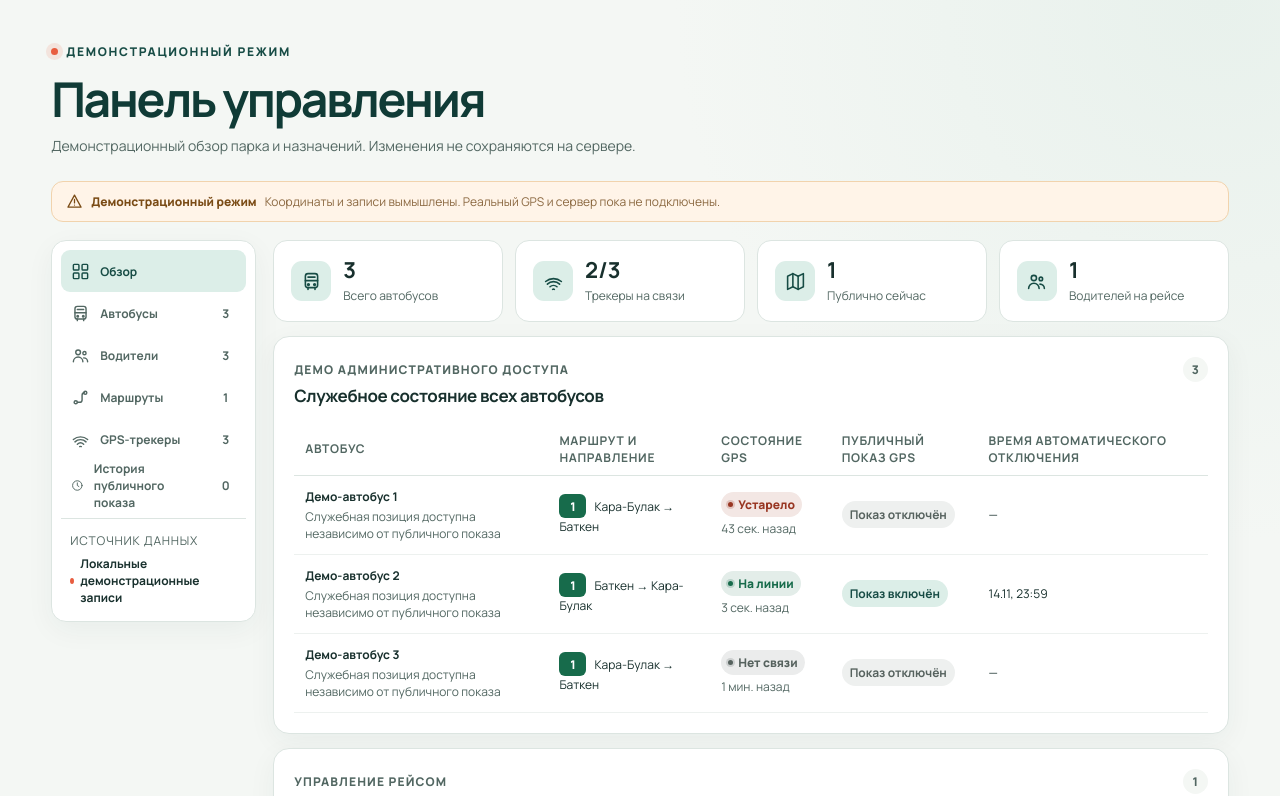
it: Admin demo panel › stores an edited tracker model as typed text
The image size is (1280, 796).
Click the button "GPS-трекеры 3": coordinates (154, 440) [61,418,246,460]
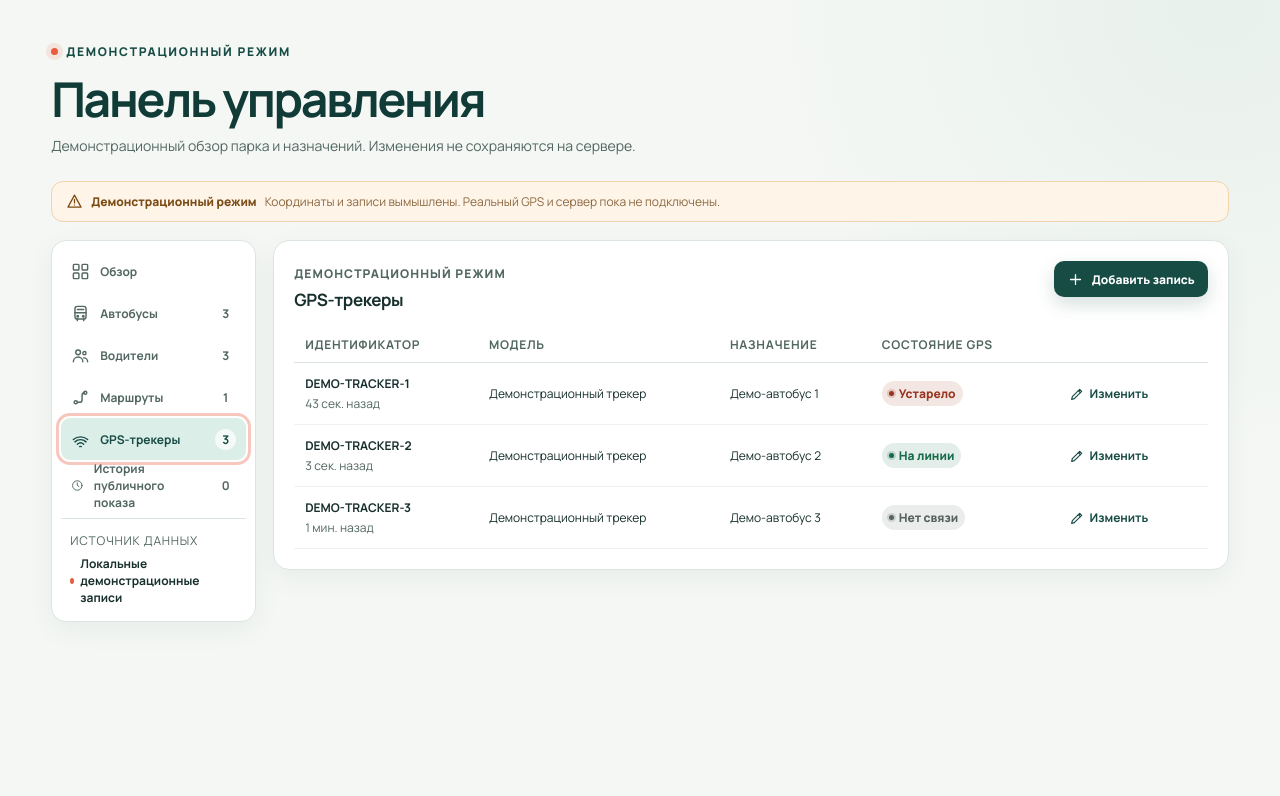
Click the button "Изменить" in the row of "DEMO-TRACKER-2": coordinates (1108, 456) [1061,438,1156,474]
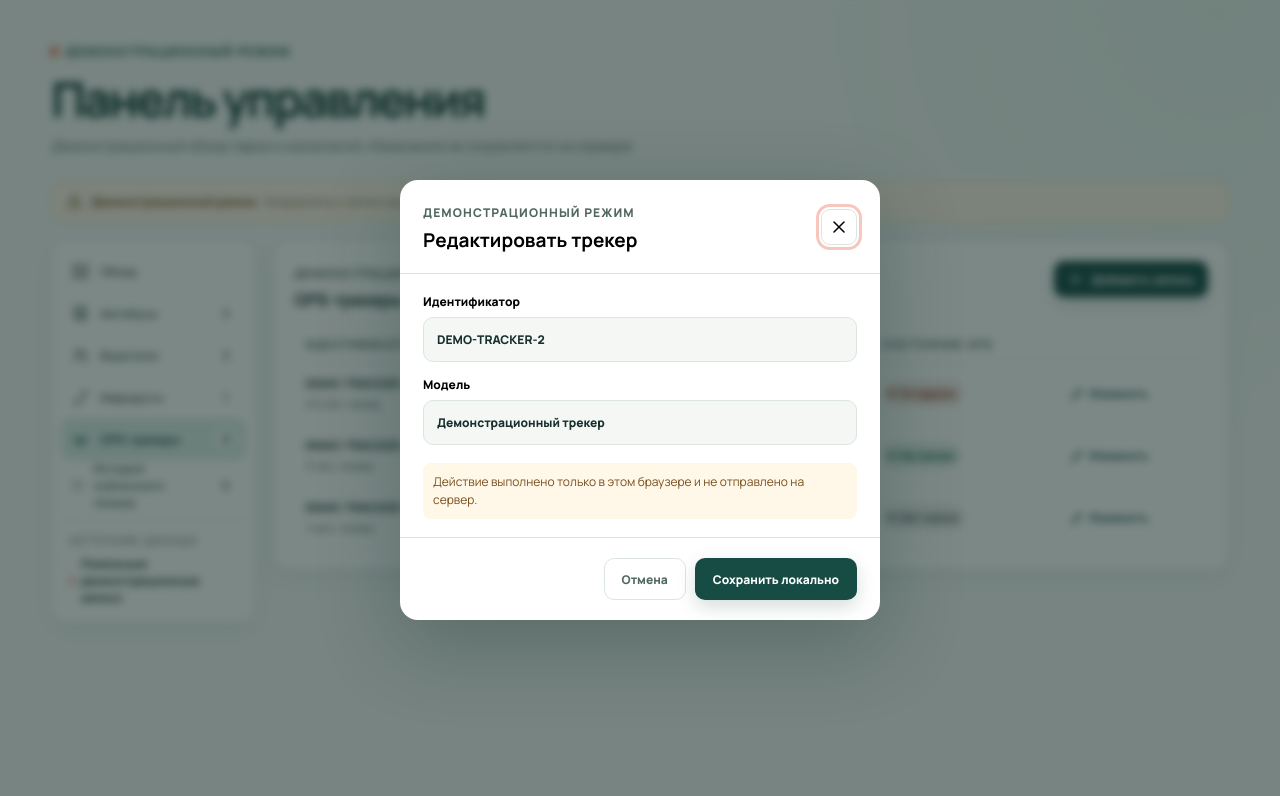
Replace the text in the field labelled "Модель" with "Демо-модель Б": coordinates (640, 422) [423,400,857,445]
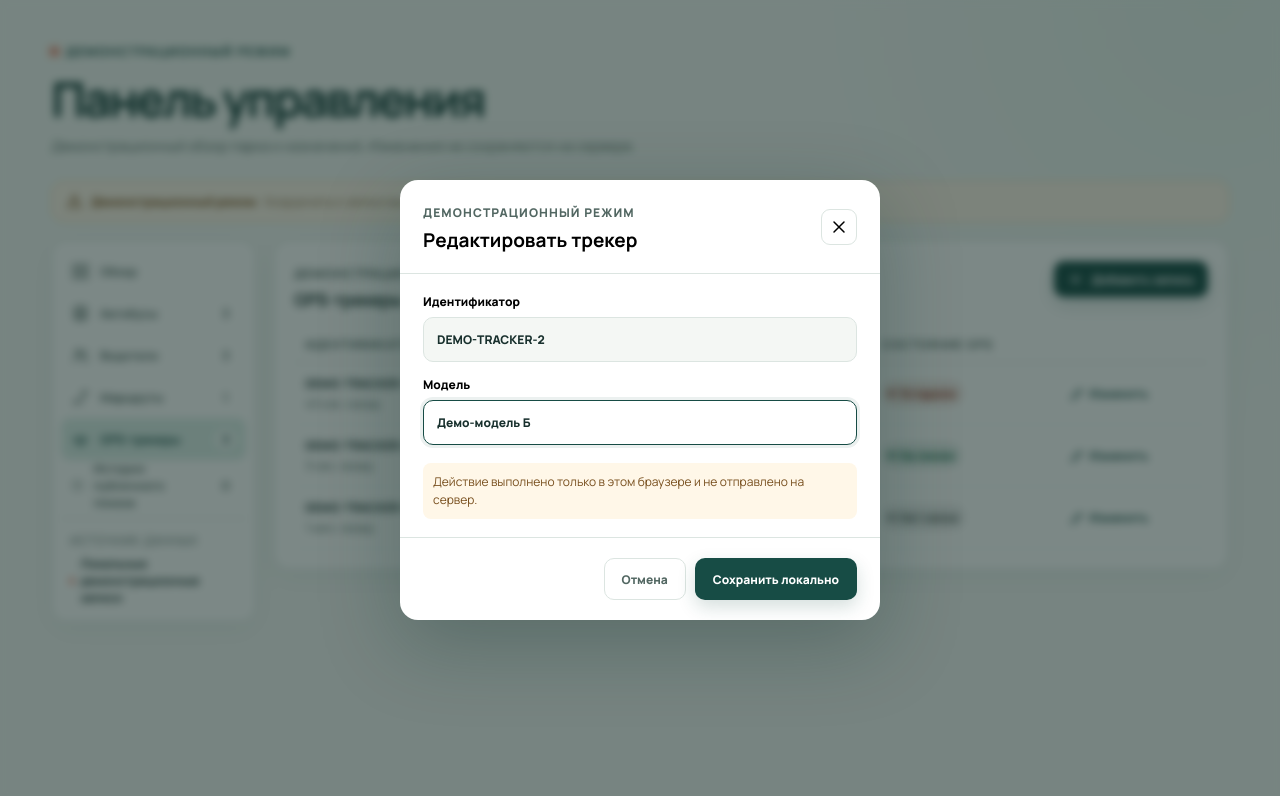
Click the button "Сохранить локально": coordinates (776, 579) [695,558,857,600]
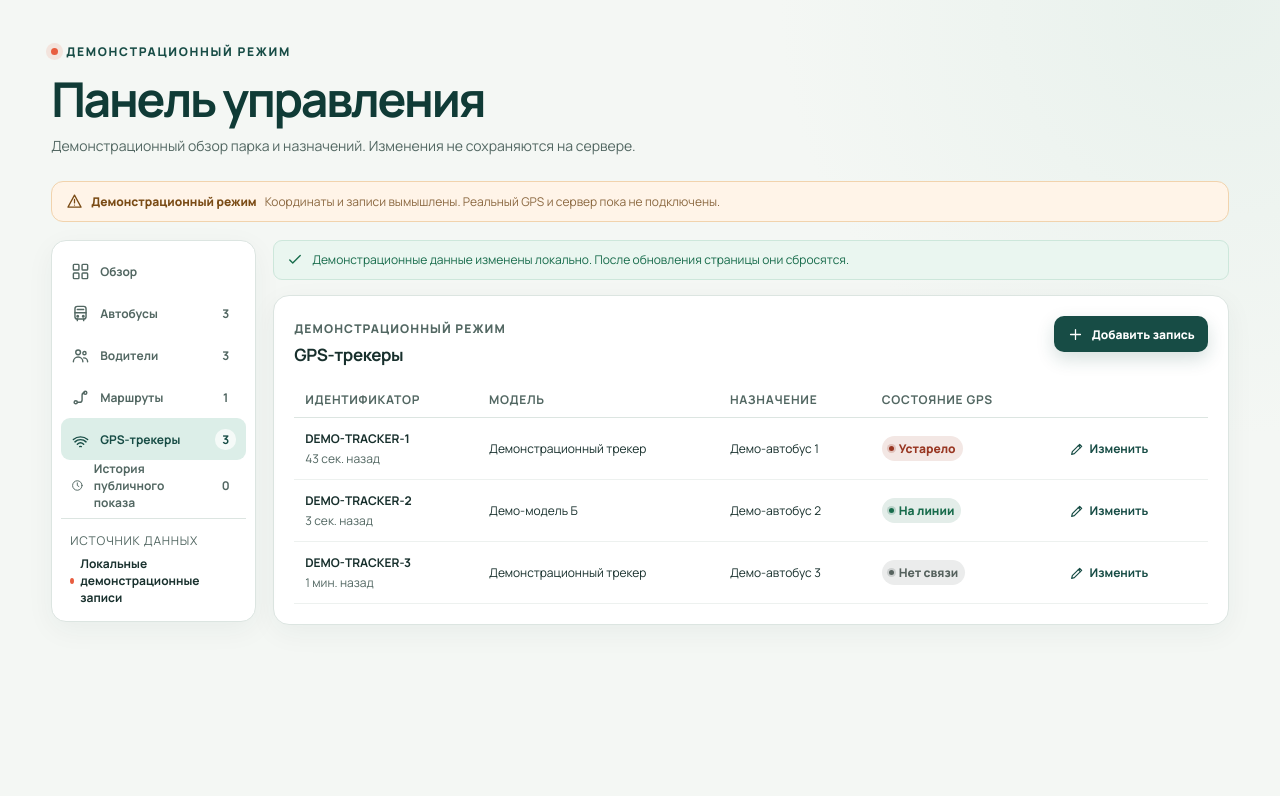
Expected: the text "Демо-модель Б" is shown, [478,480,719,542]
